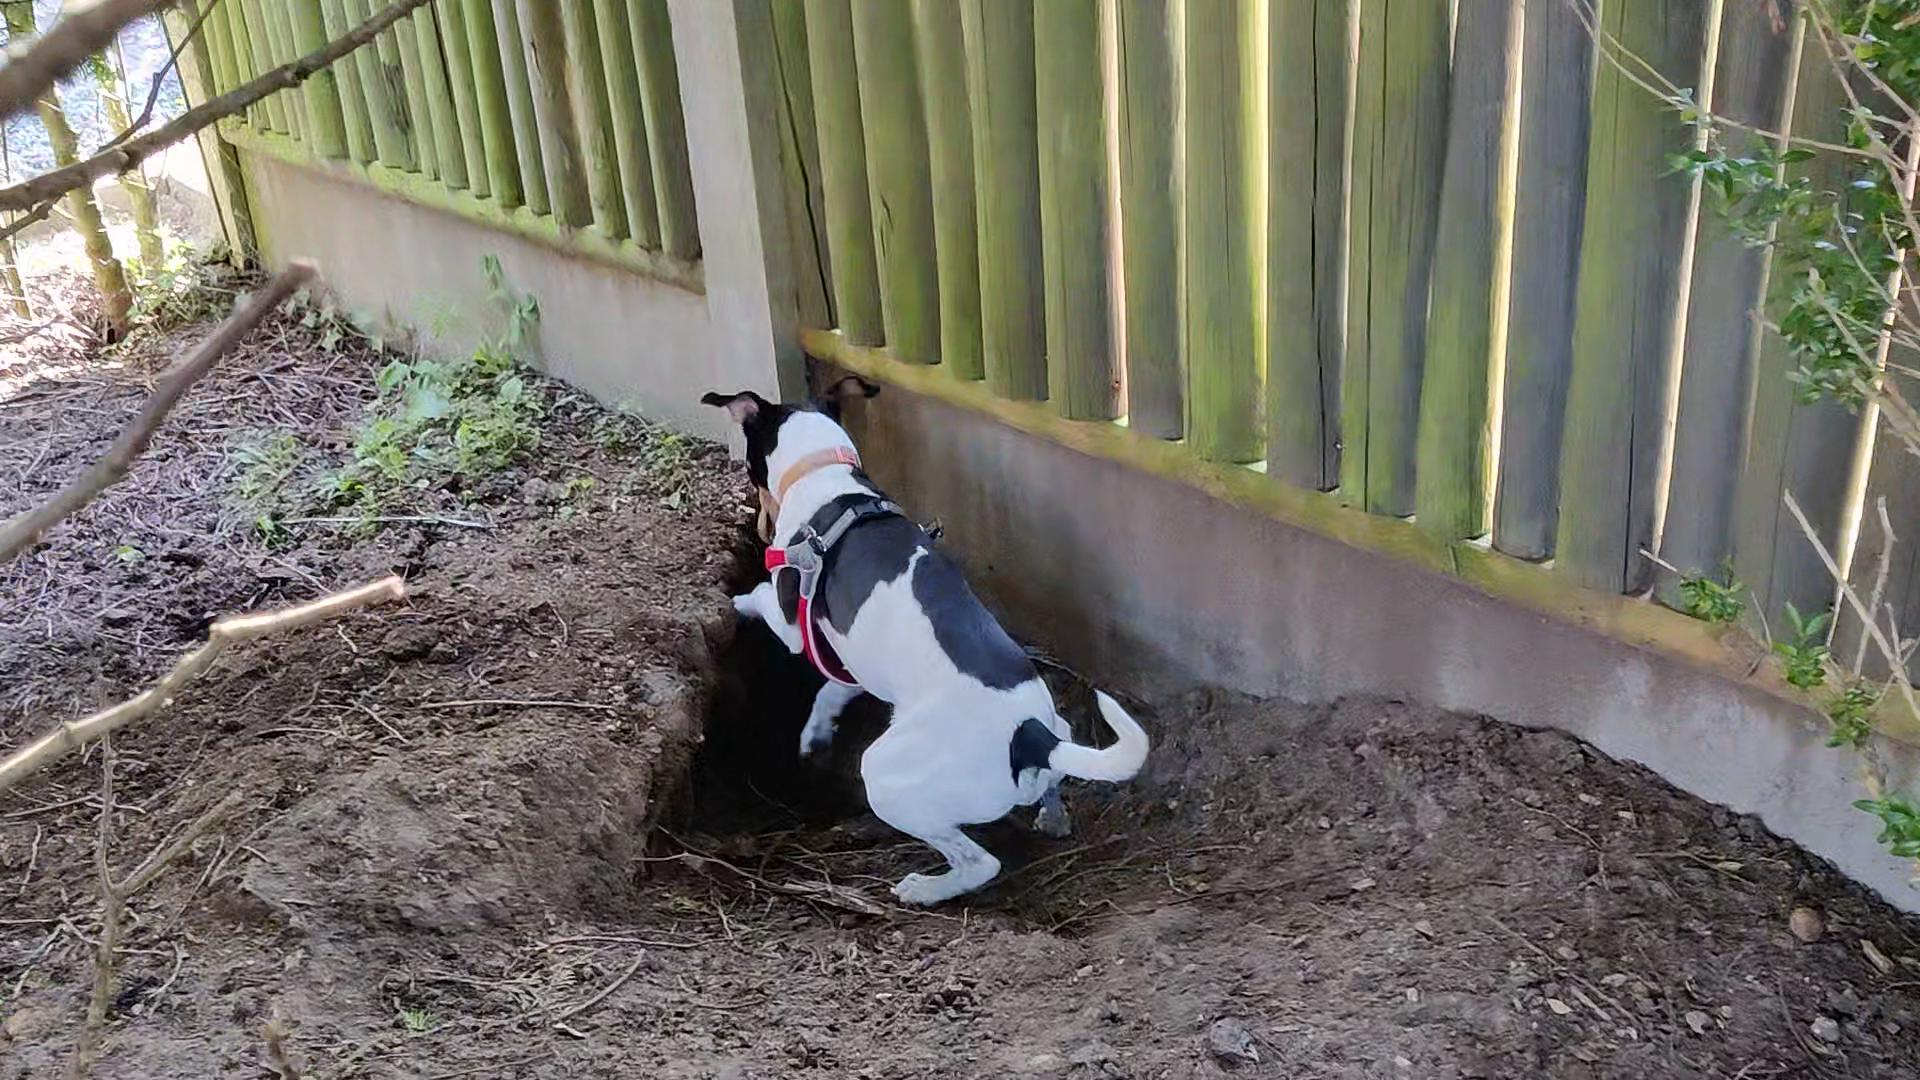Dog: (669, 347, 1160, 914)
